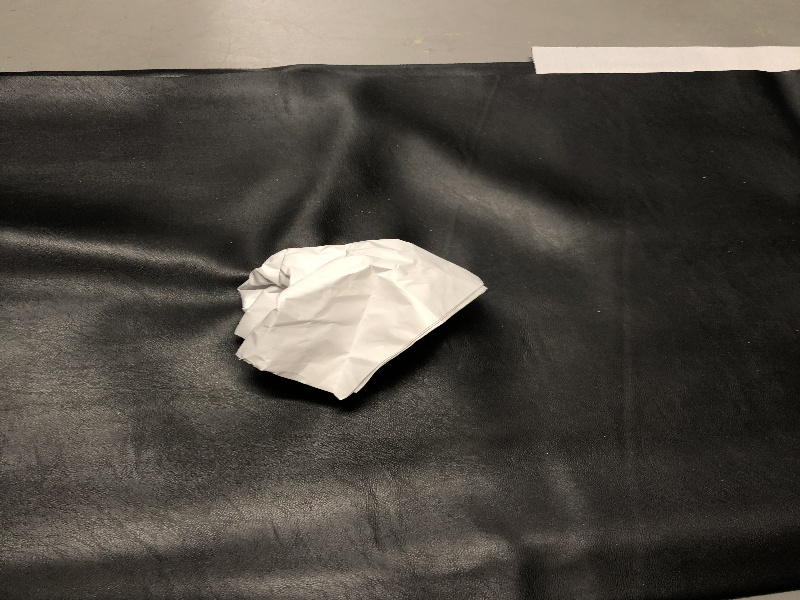paper: (216, 227, 499, 414)
